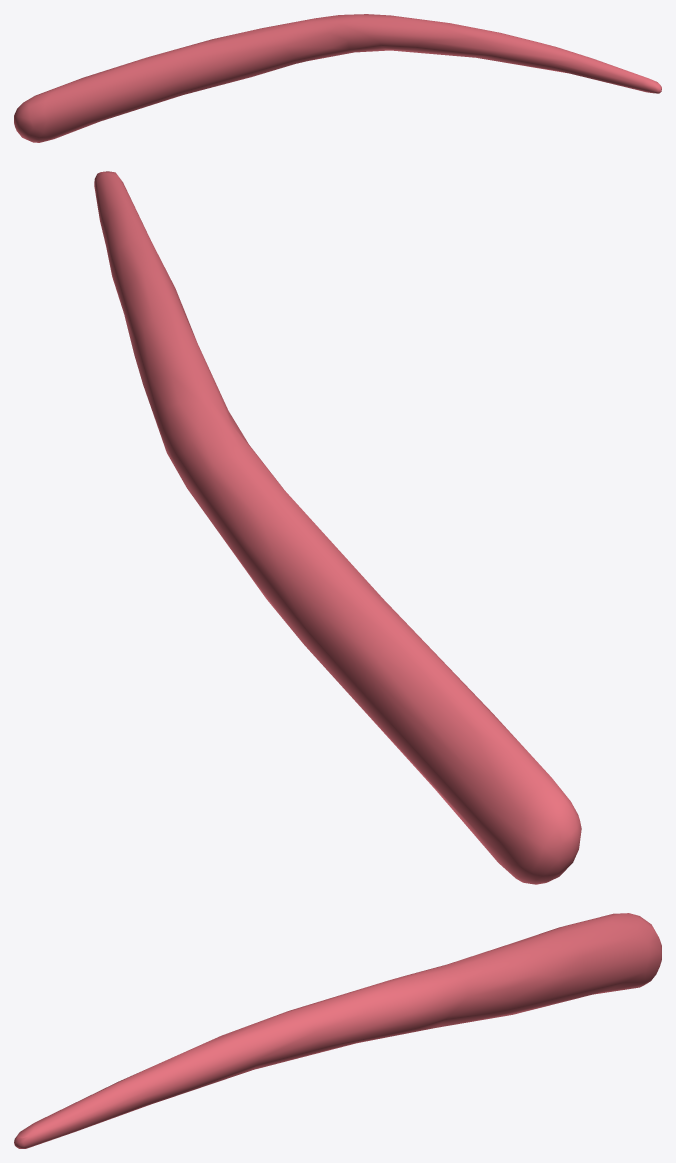
File: fma8667_fj2930.glb
The picture shows the model from 3 angles, top to bottom: view 1: azimuth 30°, elevation 25°; view 2: azimuth 150°, elevation 25°; view 3: azimuth 270°, elevation 25°; orthographic projection. The views are drawn at different scales.
Parts seen in each view (by area): view 1: FMA8667_FJ2930; view 2: FMA8667_FJ2930; view 3: FMA8667_FJ2930.
Part boxes in pixels (x1,y1,x2,y2): FMA8667_FJ2930: (14, 14, 661, 142); FMA8667_FJ2930: (94, 171, 581, 884); FMA8667_FJ2930: (14, 913, 661, 1148).
Size of the model in its own units: 0.0527 by 0.0145 by 0.0444.
